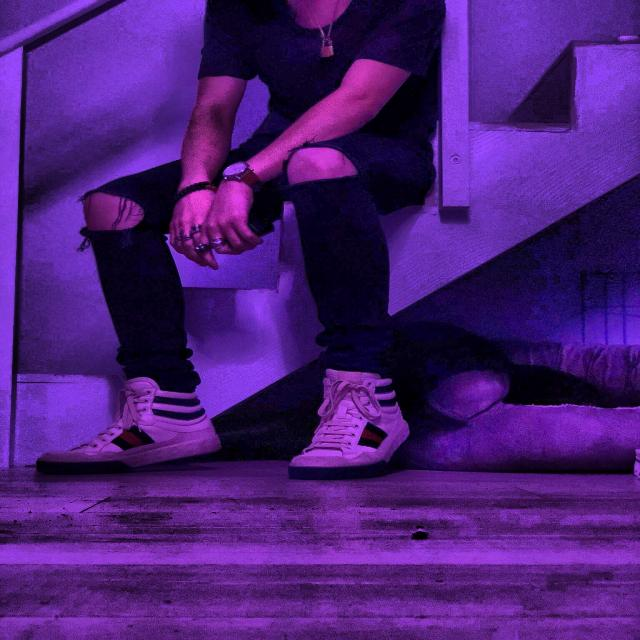Casual_Sneakers: (33, 374, 225, 475), (285, 368, 415, 483)
